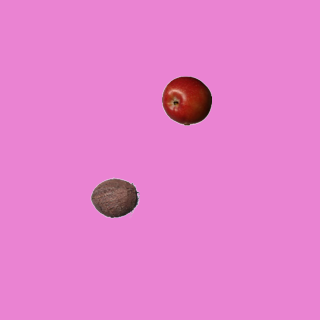Apple Braeburn: (161, 75, 211, 125)
Cocos: (89, 172, 139, 222)
